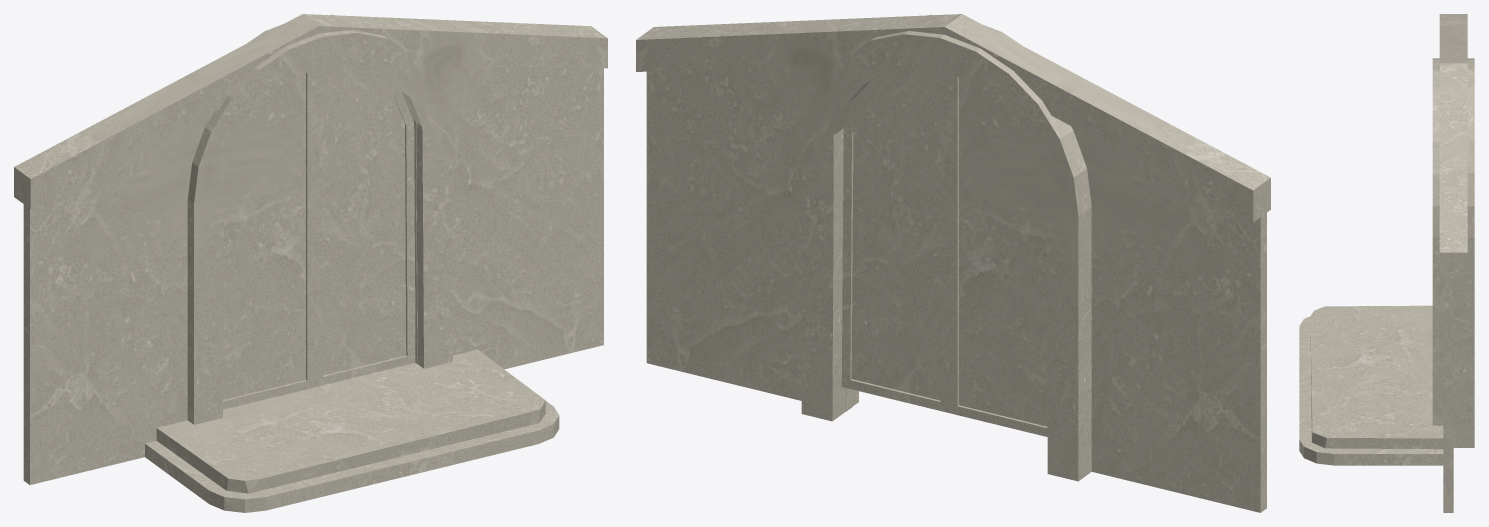
The model's file is eccdc98b-a5d2-4ce0-8e97-78c36c807ef9.glb.
3 views of the same model, side by side, from view 1: azimuth 30°, elevation 25°; view 2: azimuth 150°, elevation 25°; view 3: azimuth 270°, elevation 25° (orthographic). The views are drawn at different scales.
Parts seen in each view (by area): view 1: AlabasterLargeDoorway.002; view 2: AlabasterLargeDoorway.002; view 3: AlabasterLargeDoorway.002.
Part boxes in pixels (x1=…): AlabasterLargeDoorway.002: x1=14, y1=14, x2=607, y2=512; AlabasterLargeDoorway.002: x1=636, y1=14, x2=1270, y2=512; AlabasterLargeDoorway.002: x1=1299, y1=14, x2=1474, y2=512.
Size of what is drawn, in the model's own units: 5.74 by 3.71 by 1.78.
Materials: 1 (1 with a texture image).
